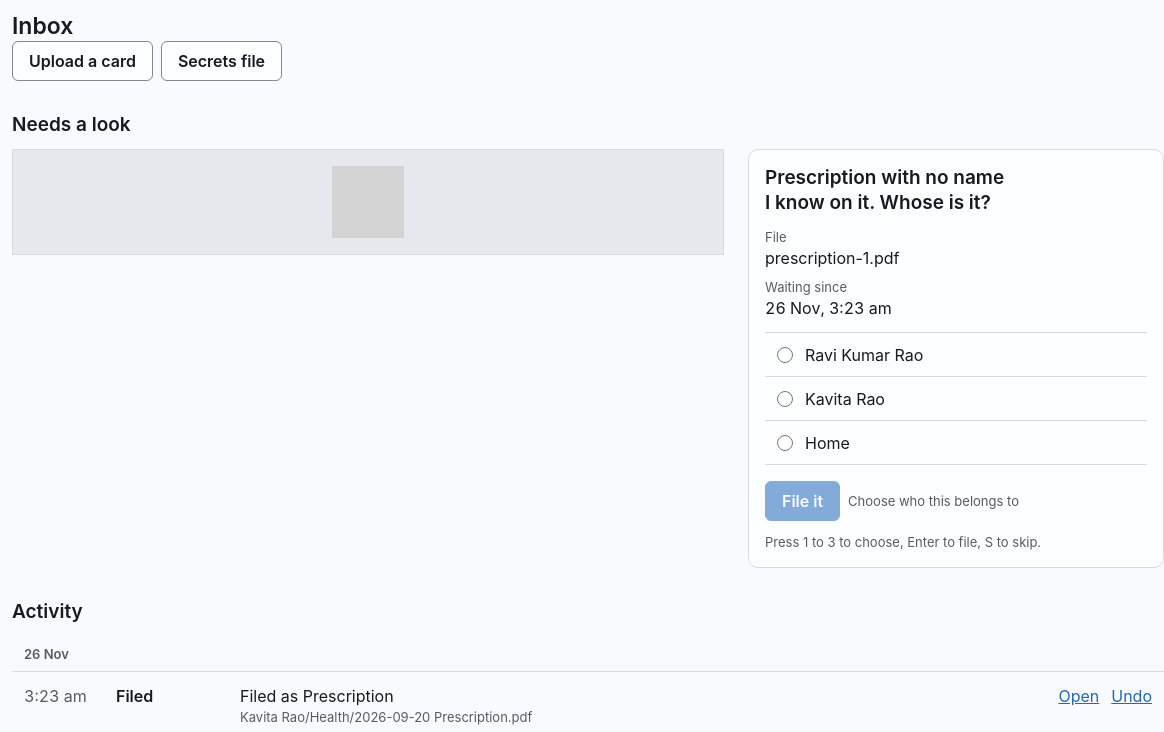
Scenario: InboxPage › an answer says it is filing, tells the sidebar and reads the list again
Click the radio button labelled "Kavita Rao" at (785, 399), box [777,391,793,407]
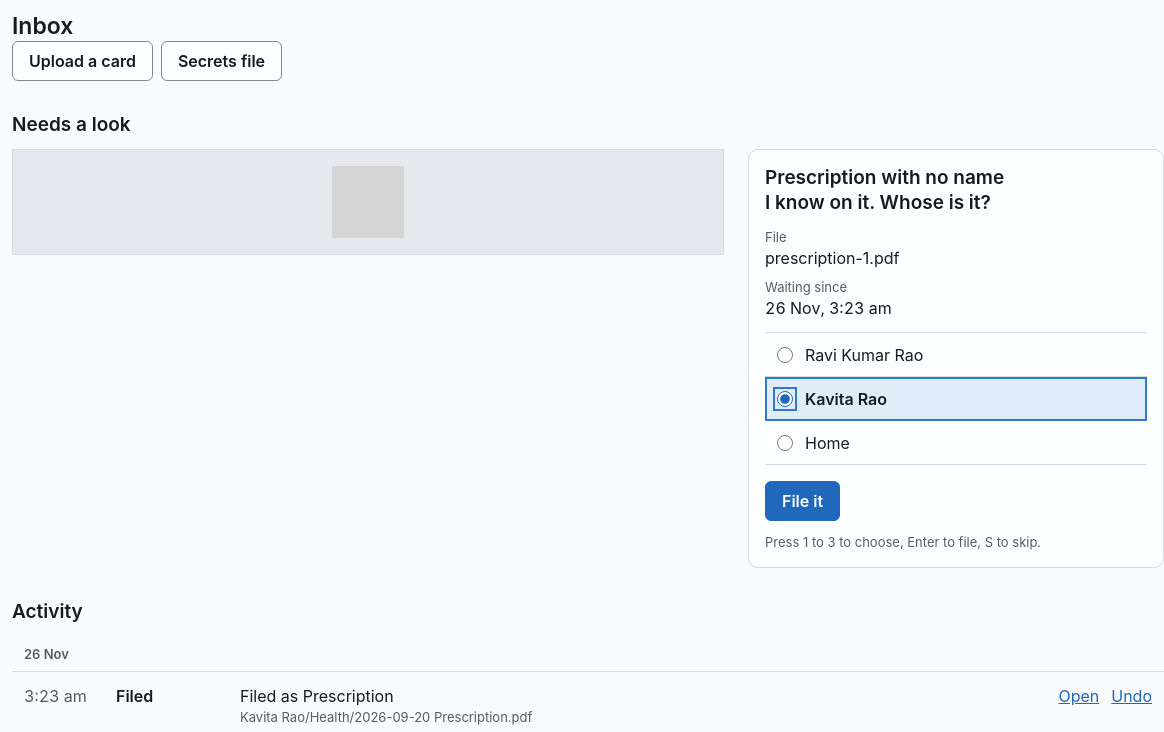
Click the button "File it" at (803, 501), box [765,481,840,521]
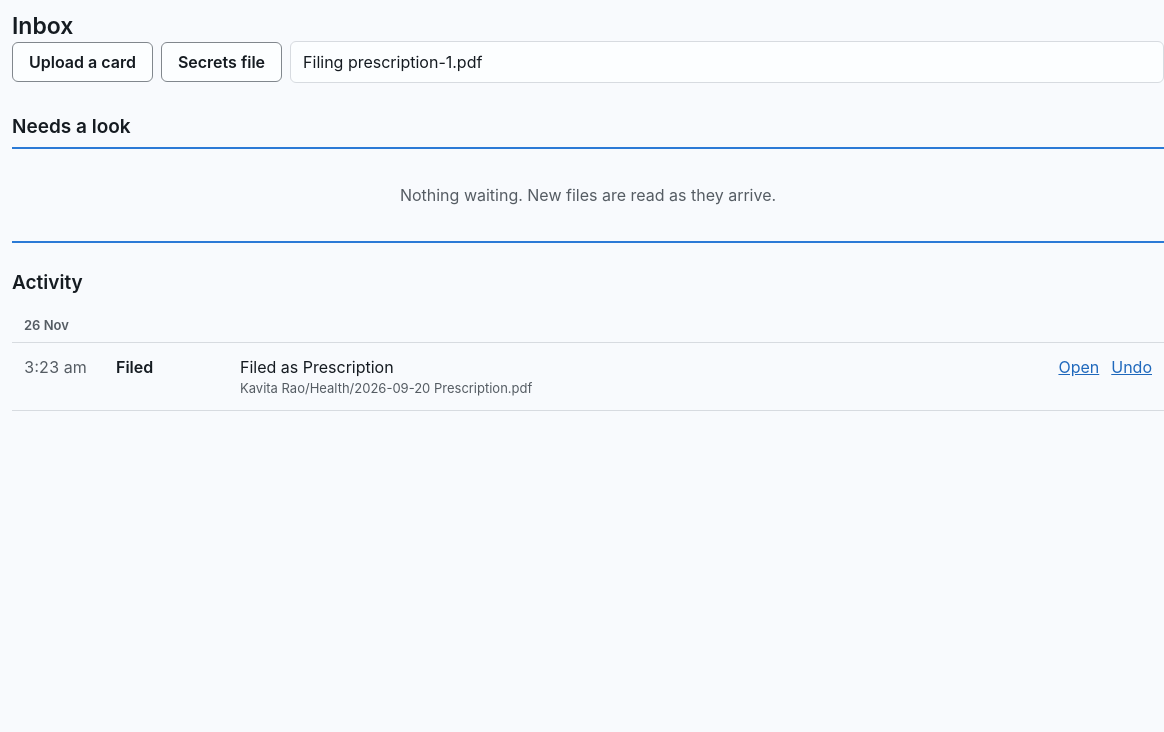
Result: the text "Filing prescription-1.pdf" is shown at [303,50,482,74]
Result: the text "Nothing waiting. New files are read as they arrive." is shown at [400,185,776,205]
